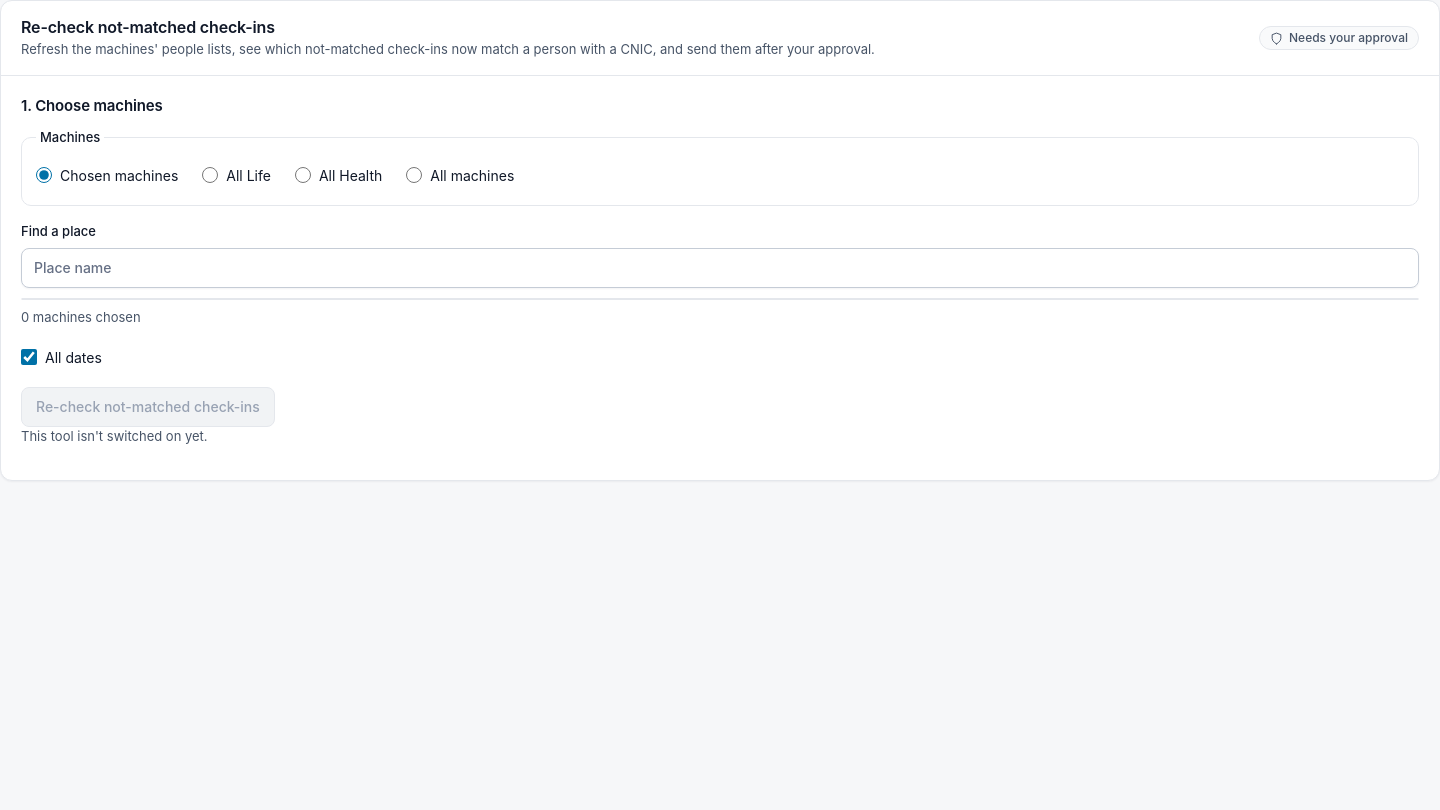
Test: requires explicit scope, then one reason and password, while offline devices are excluded
The width and height of the screenshot is (1440, 810).
Expected: the button "Re-check not-matched check-ins" is disabled, [21,387,275,427]
Click the radio button labelled "All machines" at (414, 175), box [406,167,422,183]
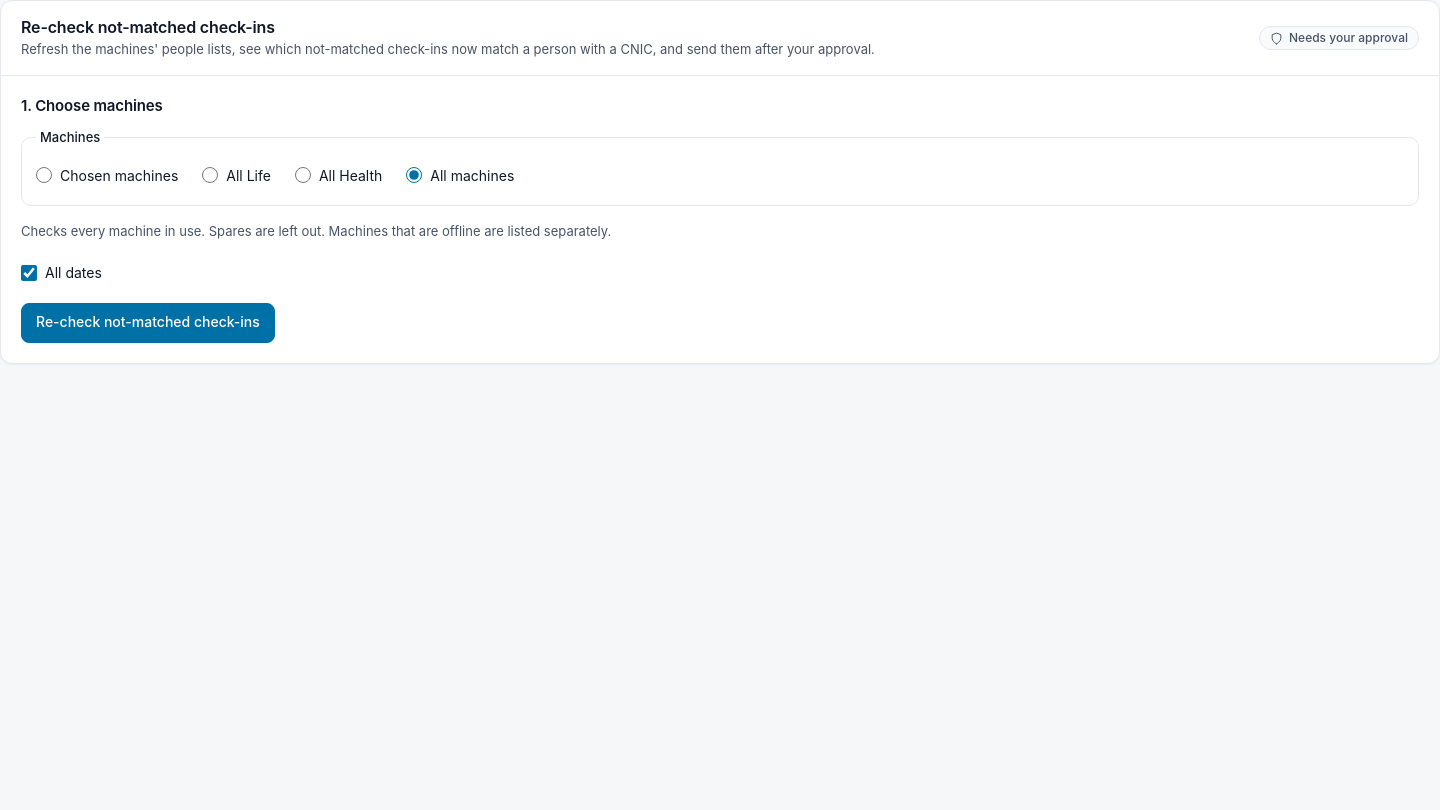
Expected: the button "Re-check not-matched check-ins" is enabled
Click the button "Re-check not-matched check-ins" at (148, 323), box [21,303,275,343]
(page scrolled)
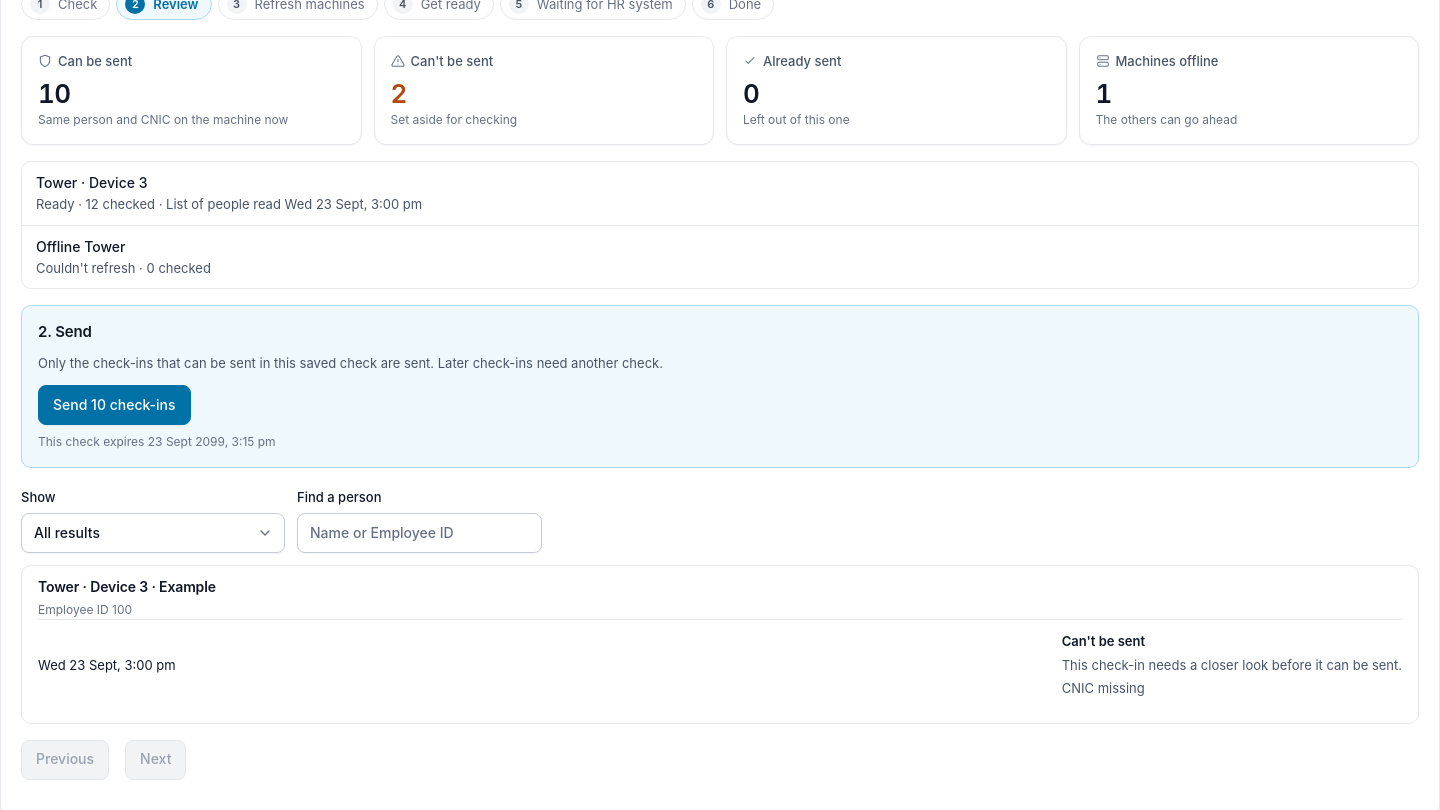
Expected: the text "CNIC missing" is shown, [1062,679,1145,699]
Click the button "Send 10 check-ins" at (114, 405), box [38,385,191,425]
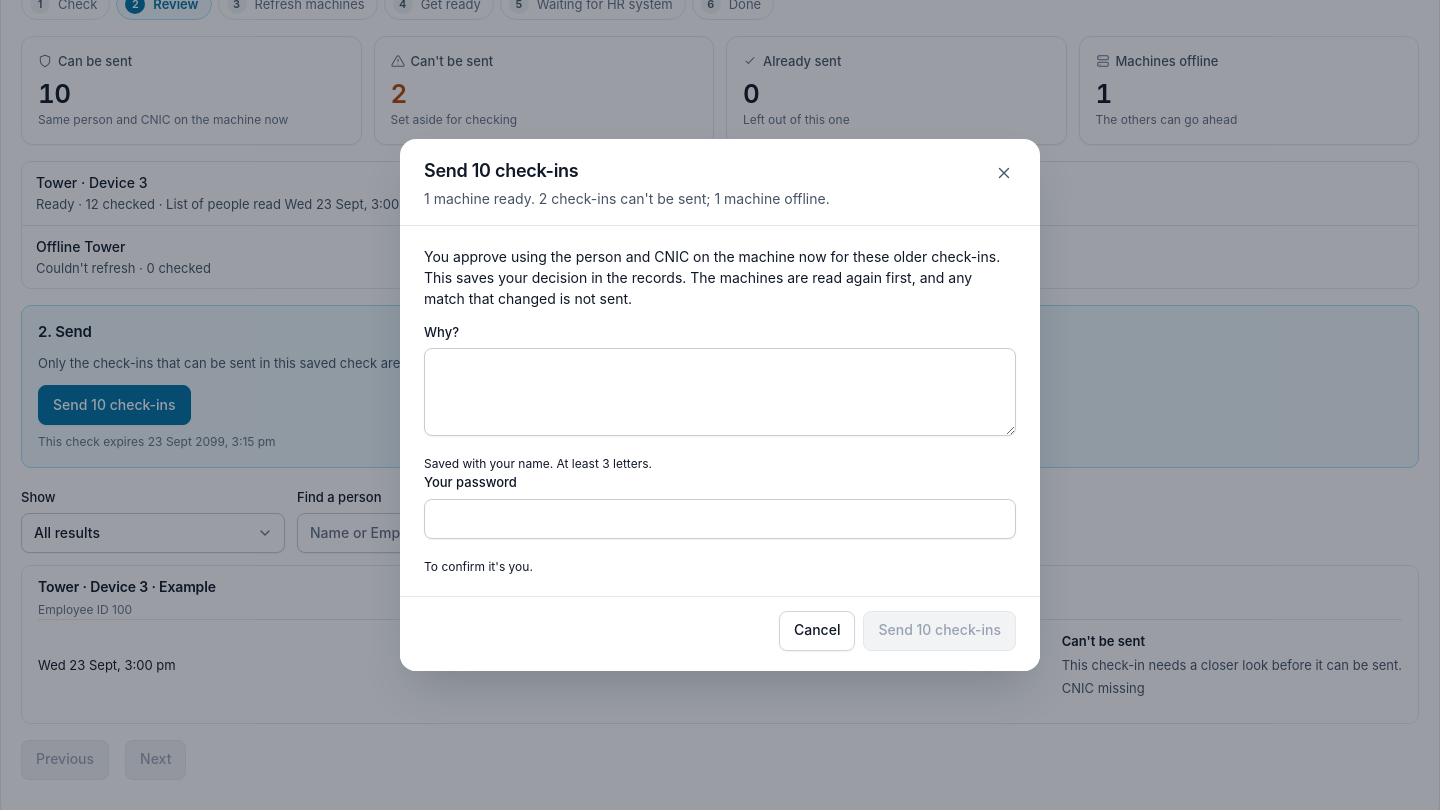
Expected: the text "1 machine ready" is shown, [424,190,830,207]
Type "Current employee verified" into the text box labelled "Why?" at (720, 392), box [424,348,1016,436]
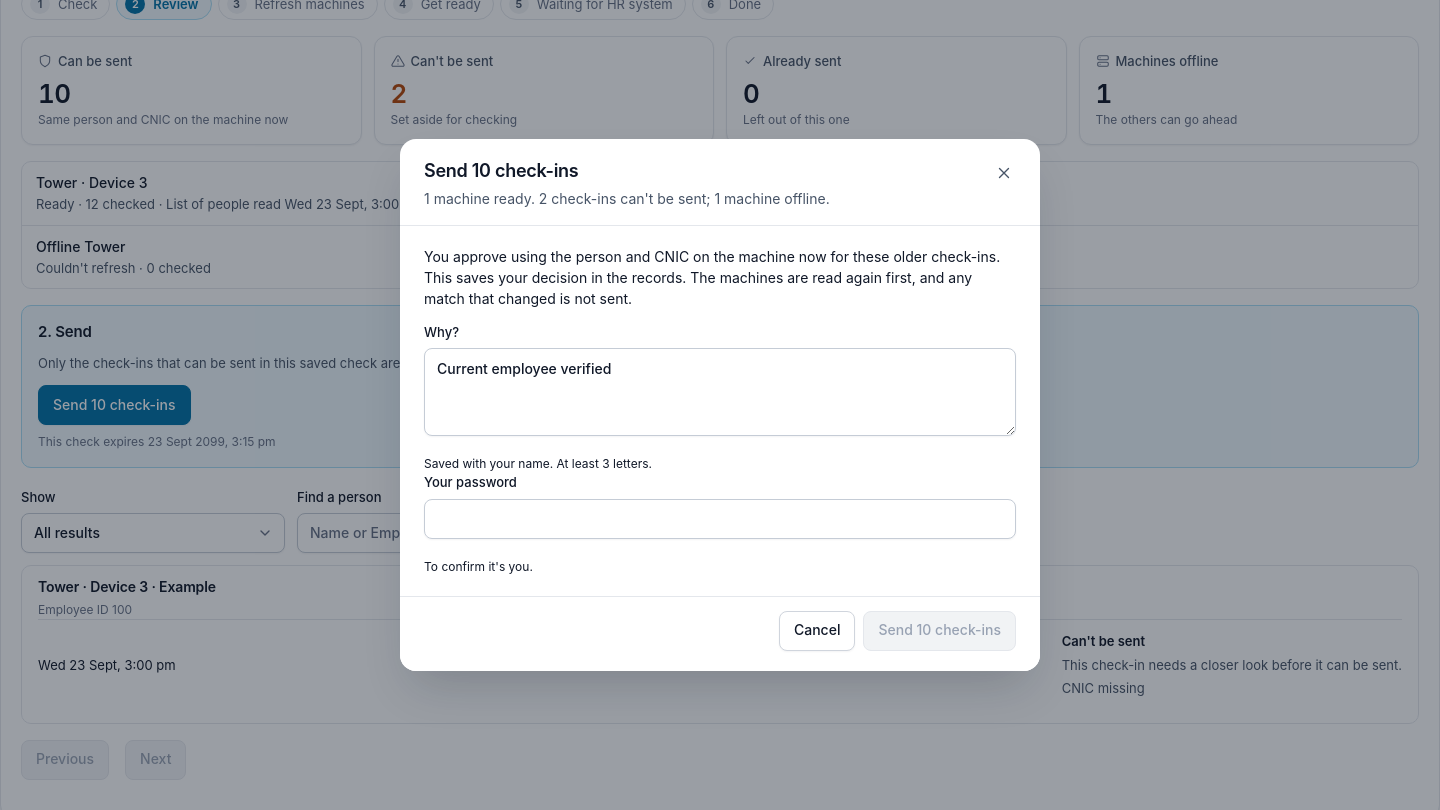
Type "secret" into the password field labelled "Your password" at (720, 519), box [424,499,1016,539]
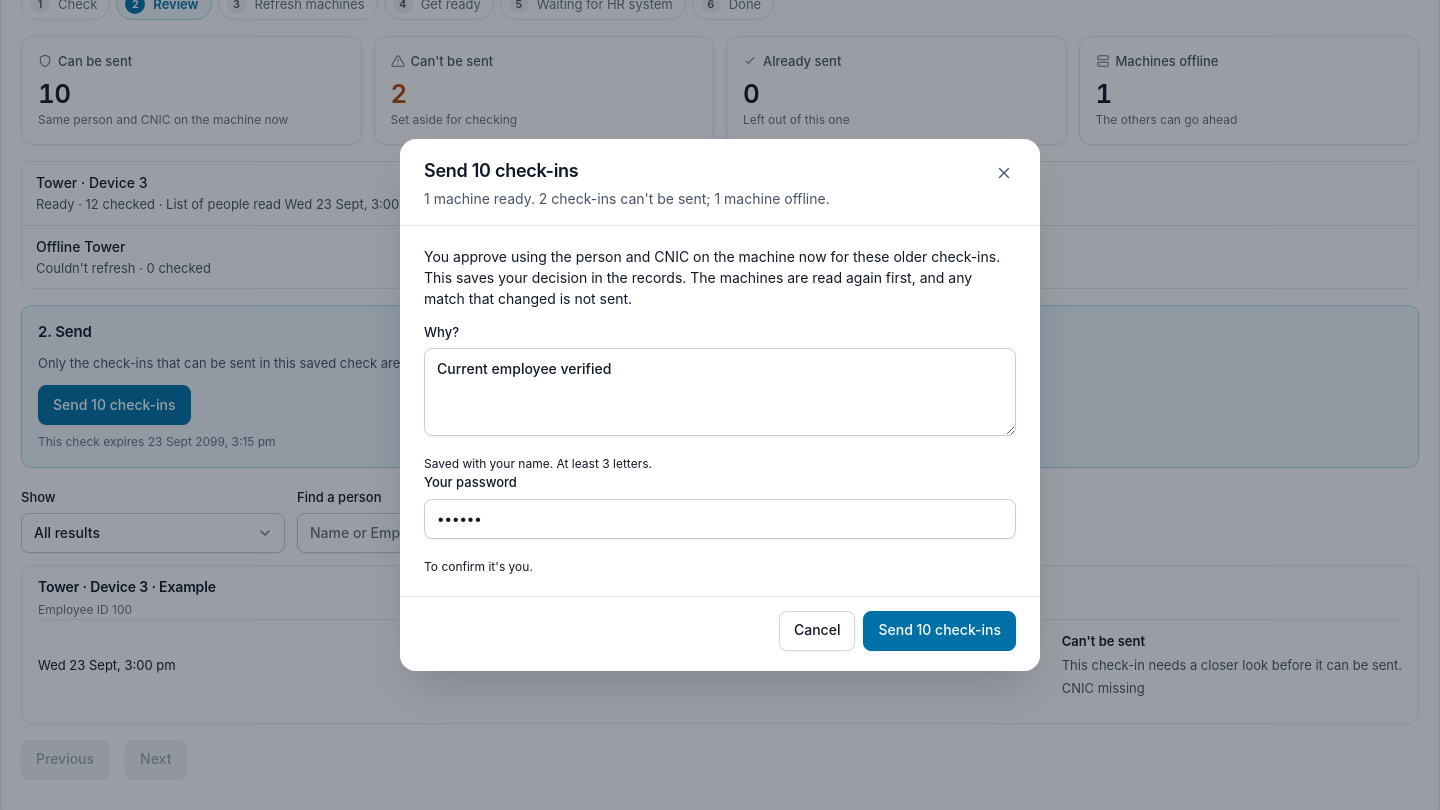
Click the button "Send 10 check-ins" at (940, 631), box [863,611,1016,651]
(page scrolled)
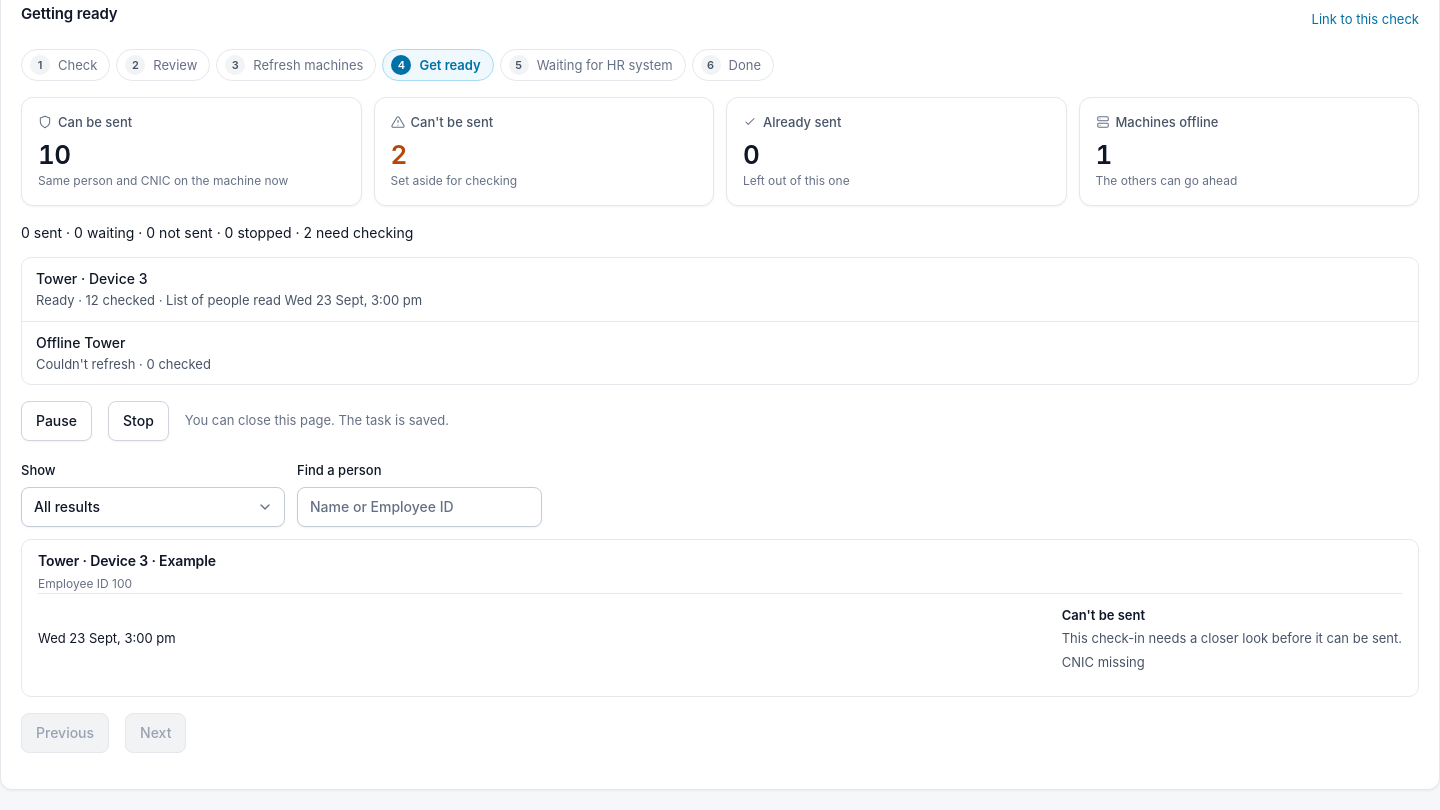
Expected: the heading "Getting ready" is shown, [21,4,118,23]
